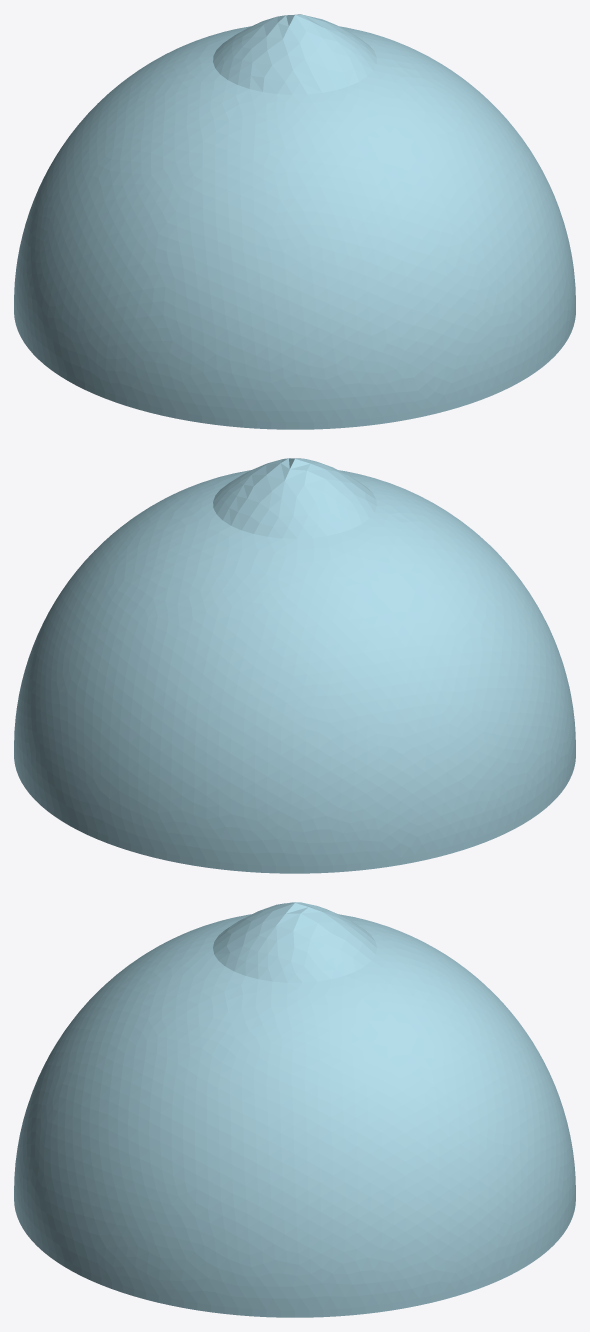
The model's file is asym_manual_lobules.obj.
3 renders of one model, top to bottom at view 1: azimuth 30°, elevation 25°; view 2: azimuth 150°, elevation 25°; view 3: azimuth 270°, elevation 25°, orthographic.
Visible parts, largest first — view 1: grp1; view 2: grp1; view 3: grp1.
Boxes of the visible parts, box(x1,y1,x2,y2) form: grp1: box(14, 14, 575, 429); grp1: box(14, 458, 575, 873); grp1: box(14, 902, 575, 1317).
Size of the model in its own units: 0.14 by 0.0814 by 0.14.
